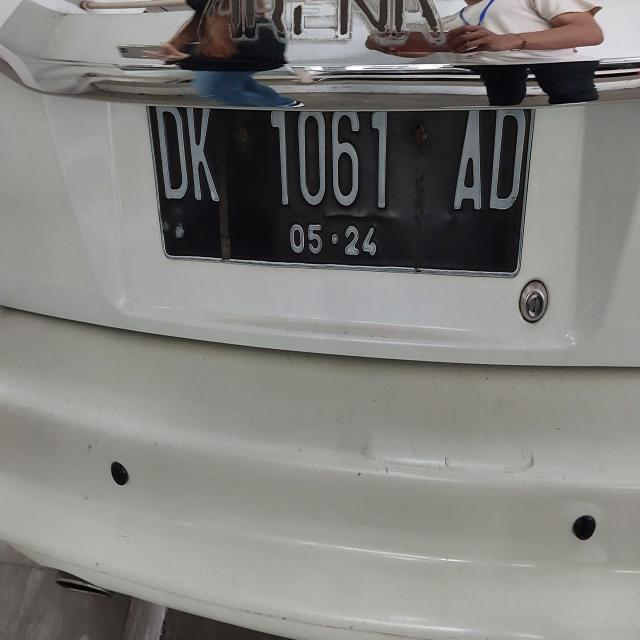0: (297, 106, 329, 212)
1: (362, 96, 408, 224), (260, 96, 294, 212)
6: (329, 106, 371, 217)
A: (448, 90, 490, 224)
D: (482, 93, 545, 234), (143, 101, 190, 222)
K: (180, 103, 224, 211)
